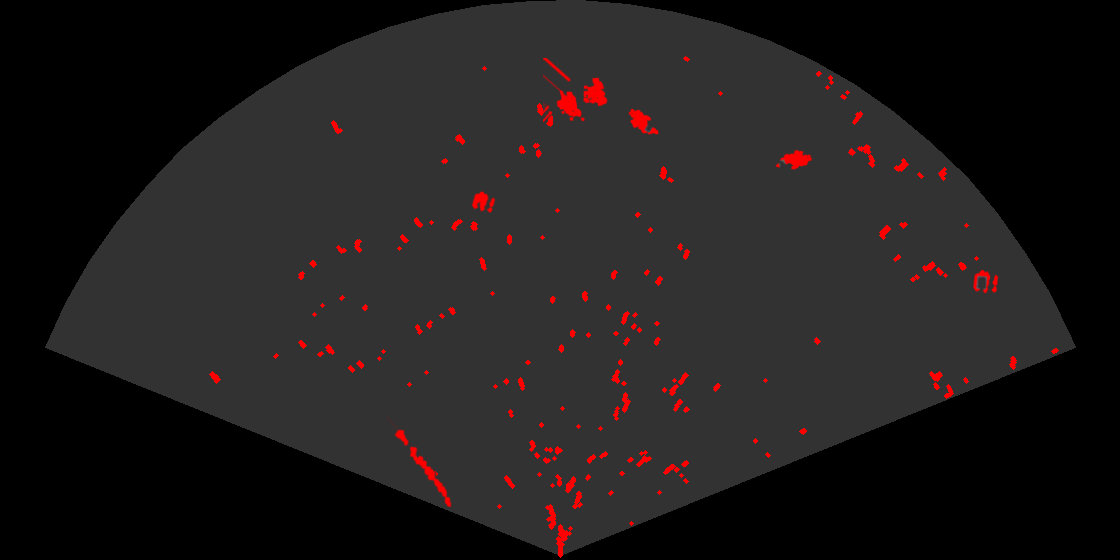AUV: (627, 107, 661, 136), (774, 148, 814, 171)
ball: (972, 268, 1000, 295), (470, 189, 497, 214)
cage: (543, 58, 609, 124)
chain: (387, 417, 453, 509)
